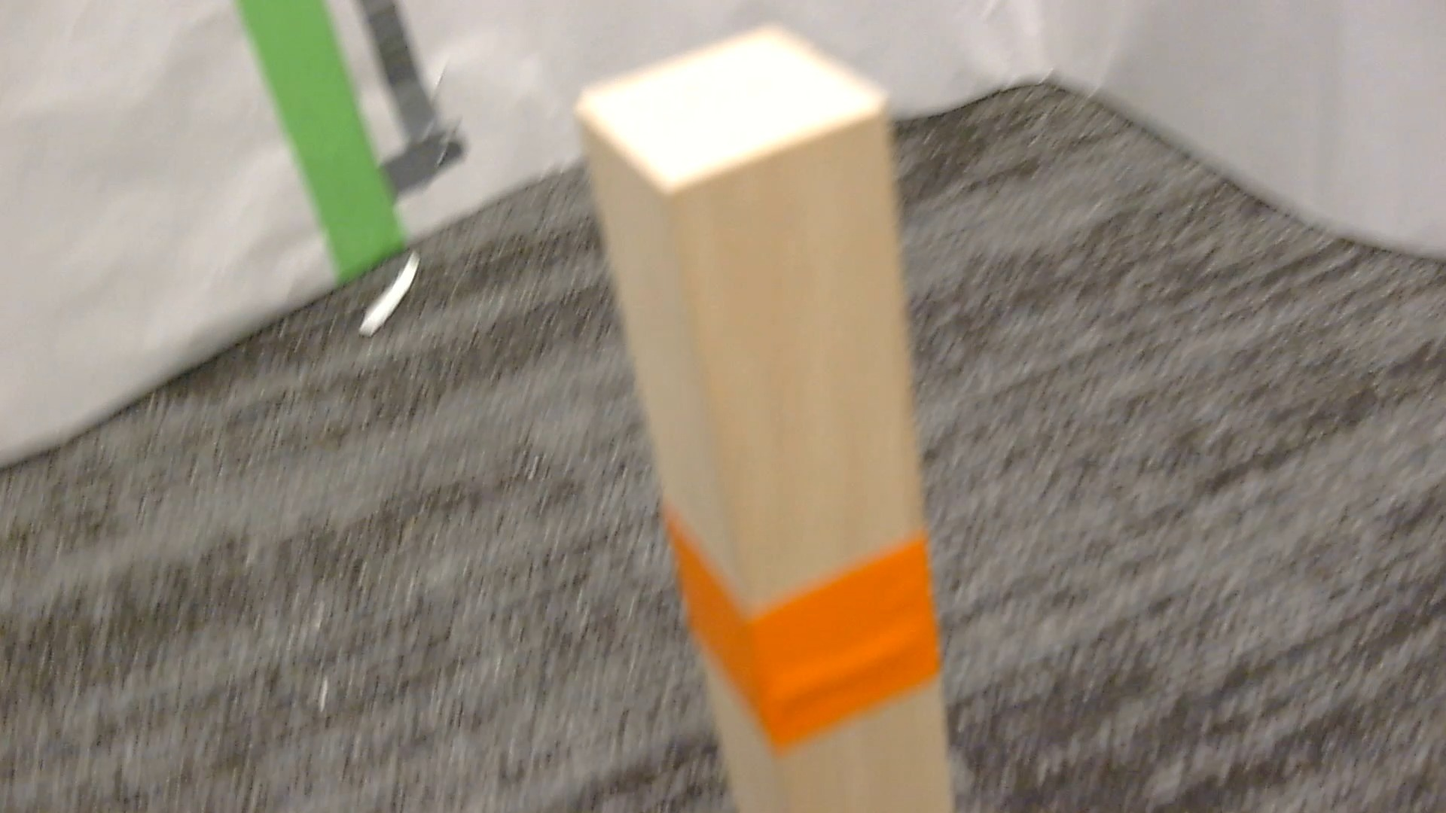Wooden Block: (575, 28, 953, 812)
